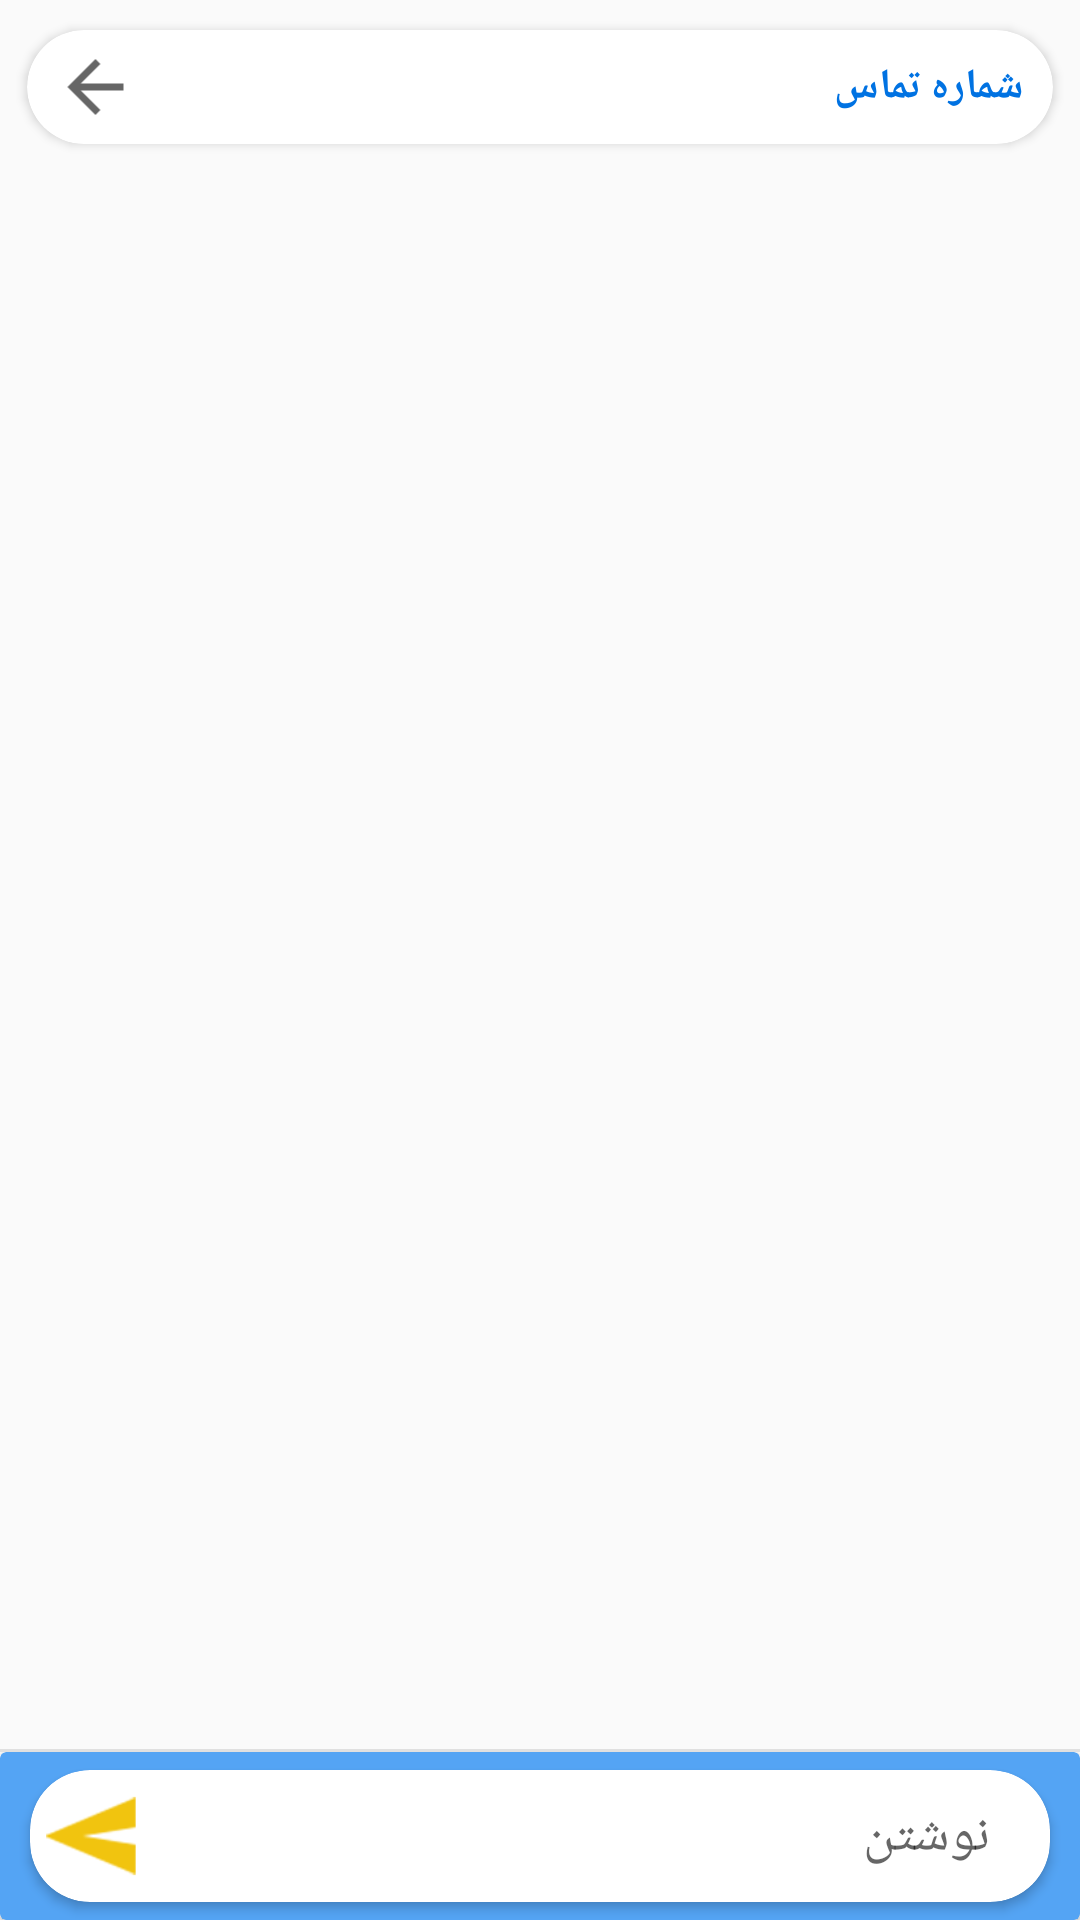

Named icons in this screenshot (1080 x 1920) and their centers, [x,y]:
send: [91,1836]
